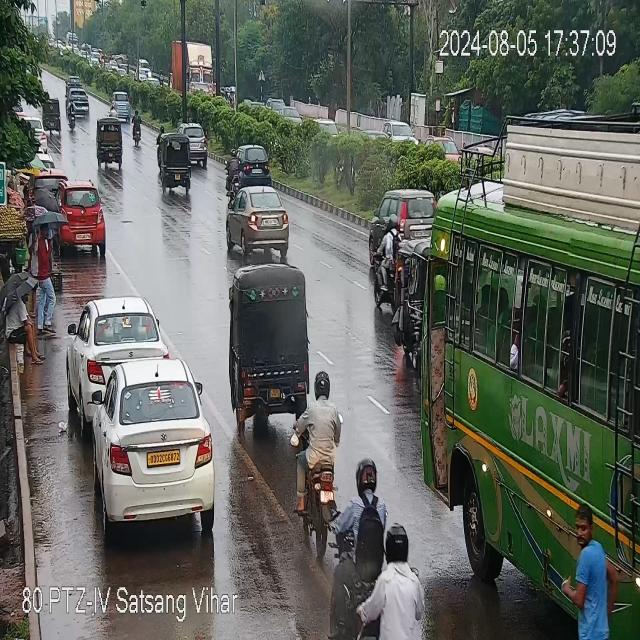2-wheelers: (345, 449, 381, 640), (302, 374, 338, 546), (375, 527, 422, 640), (374, 214, 400, 307), (224, 145, 240, 195), (116, 91, 131, 121), (156, 125, 167, 164), (132, 109, 142, 145), (67, 95, 75, 134), (109, 104, 117, 119)
auto: (229, 262, 315, 426), (400, 236, 426, 361), (160, 136, 195, 189), (96, 122, 124, 166), (42, 96, 64, 132)
bus: (425, 115, 640, 610)
car: (93, 359, 217, 526), (70, 295, 163, 409), (228, 183, 292, 257), (60, 187, 106, 252), (381, 186, 431, 239), (178, 118, 210, 167), (240, 146, 271, 186), (68, 92, 92, 120)
pedestrian: (574, 508, 610, 640), (2, 284, 52, 367), (38, 222, 53, 333), (24, 190, 36, 271)
truck: (172, 39, 212, 97)
